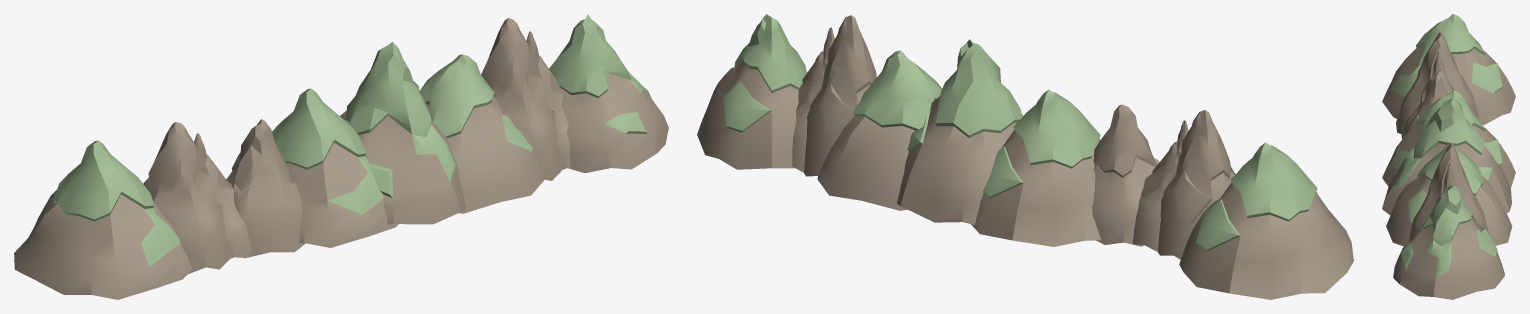
File: Mountains.fbx
The picture shows the model from 3 angles, left to right: view 1: azimuth 30°, elevation 25°; view 2: azimuth 150°, elevation 25°; view 3: azimuth 270°, elevation 25°; orthographic projection. The views are drawn at different scales.
Visible parts, largest first — view 1: M8, M2, M5, M3, M1, M7, M6, M4; view 2: M8, M3, M2, M5, M1, M7, M6, M4; view 3: M5, M8, M2, M1, M7, M3, M6, M4.
Part boxes in pixels (left/top/right/bottom): M8: left=14, top=140, right=192, bottom=299; M2: left=340, top=42, right=466, bottom=224; M5: left=549, top=14, right=668, bottom=173; M3: left=272, top=88, right=398, bottom=247; M1: left=419, top=54, right=545, bottom=213; M7: left=143, top=122, right=252, bottom=274; M6: left=481, top=18, right=570, bottom=180; M4: left=226, top=119, right=305, bottom=258; M8: left=1179, top=142, right=1353, bottom=299; M3: left=971, top=89, right=1100, bottom=246; M2: left=897, top=39, right=1023, bottom=224; M5: left=697, top=14, right=807, bottom=169; M1: left=817, top=50, right=942, bottom=210; M7: left=1132, top=110, right=1235, bottom=259; M6: left=792, top=15, right=876, bottom=176; M4: left=1092, top=104, right=1159, bottom=246; M5: left=1393, top=184, right=1504, bottom=299; M8: left=1382, top=14, right=1515, bottom=124; M2: left=1382, top=98, right=1511, bottom=215; M1: left=1386, top=143, right=1512, bottom=246; M7: left=1396, top=32, right=1479, bottom=138; M3: left=1382, top=90, right=1515, bottom=188; M6: left=1408, top=142, right=1488, bottom=242; M4: left=1402, top=74, right=1448, bottom=139.
Size of the model in its own units: 278 by 63.97 by 69.68.
